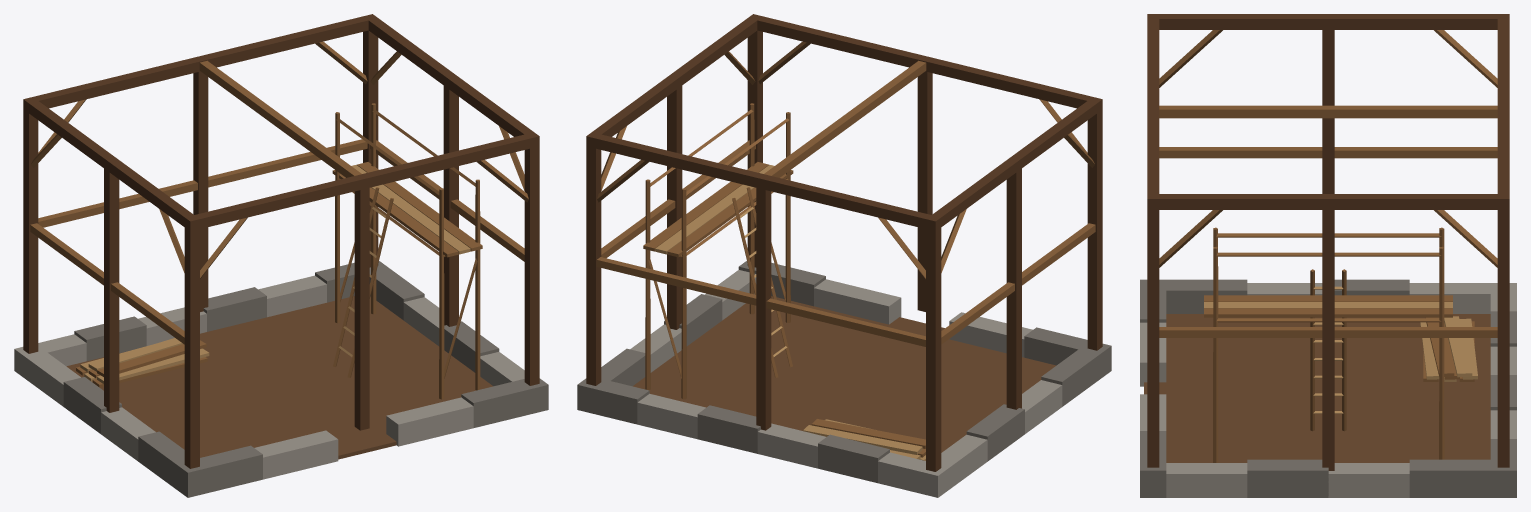
Rendered from site_6x5_2.glb.
3 renders of one model, left to right at view 1: azimuth 30°, elevation 25°; view 2: azimuth 150°, elevation 25°; view 3: azimuth 270°, elevation 25°, orthographic. The views are drawn at different scales.
Parts seen in each view (by area): view 1: site_6x5_2; view 2: site_6x5_2; view 3: site_6x5_2.
Part boxes in pixels (left/top/right/bottom): site_6x5_2: left=14, top=14, right=548, bottom=497; site_6x5_2: left=577, top=14, right=1111, bottom=497; site_6x5_2: left=1140, top=14, right=1516, bottom=497.
Bounding box in the file's own units: 6 × 4.33 × 5.
